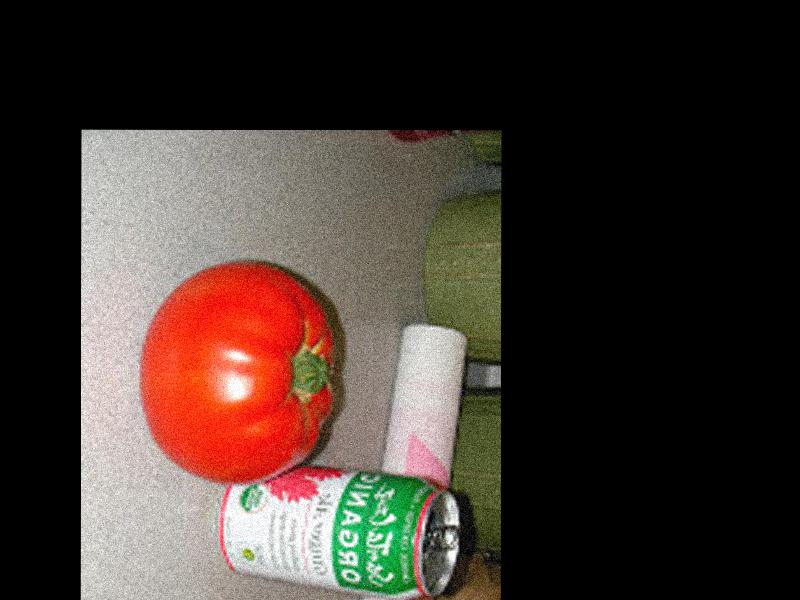Tomato: (142, 263, 332, 482)
